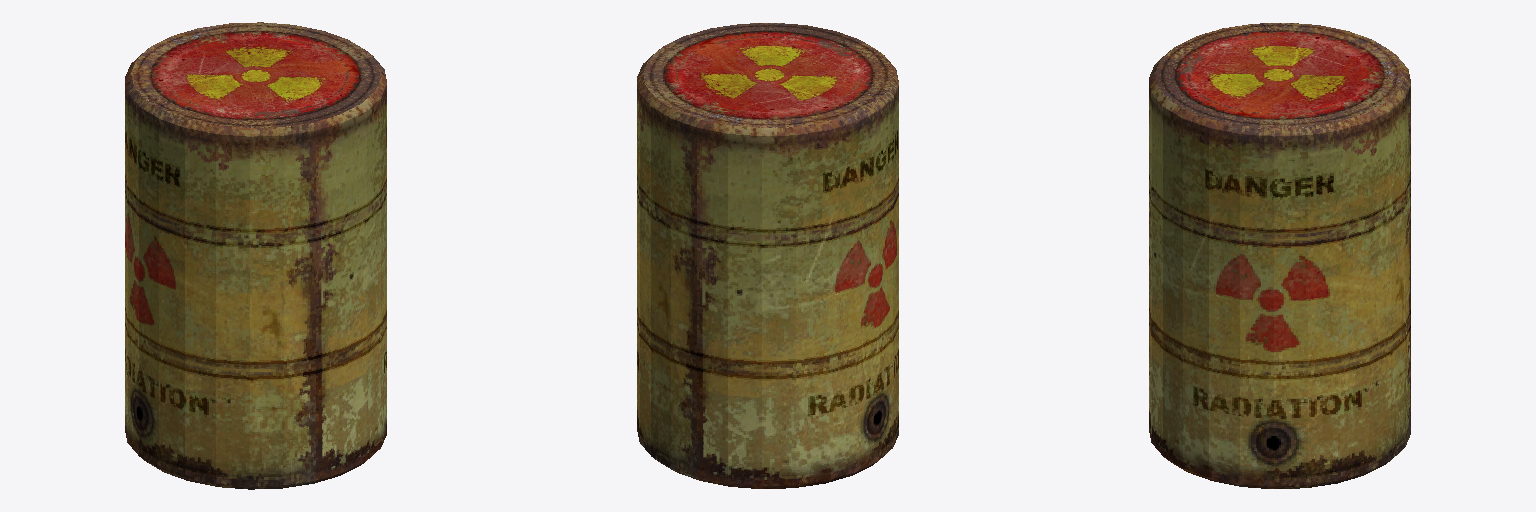
3 renders of one model, left to right at view 1: azimuth 30°, elevation 25°; view 2: azimuth 150°, elevation 25°; view 3: azimuth 270°, elevation 25°, orthographic.
Parts seen in each view (by area): view 1: barrel_barrel_Barrel; view 2: barrel_barrel_Barrel; view 3: barrel_barrel_Barrel.
Part boxes in pixels (x1,y1,x2,y2): barrel_barrel_Barrel: (125, 22, 386, 489); barrel_barrel_Barrel: (637, 23, 898, 488); barrel_barrel_Barrel: (1149, 23, 1410, 488).
Bounding box in the file's own units: 1.37 × 2.08 × 1.37.
1 materials, 1 textured.